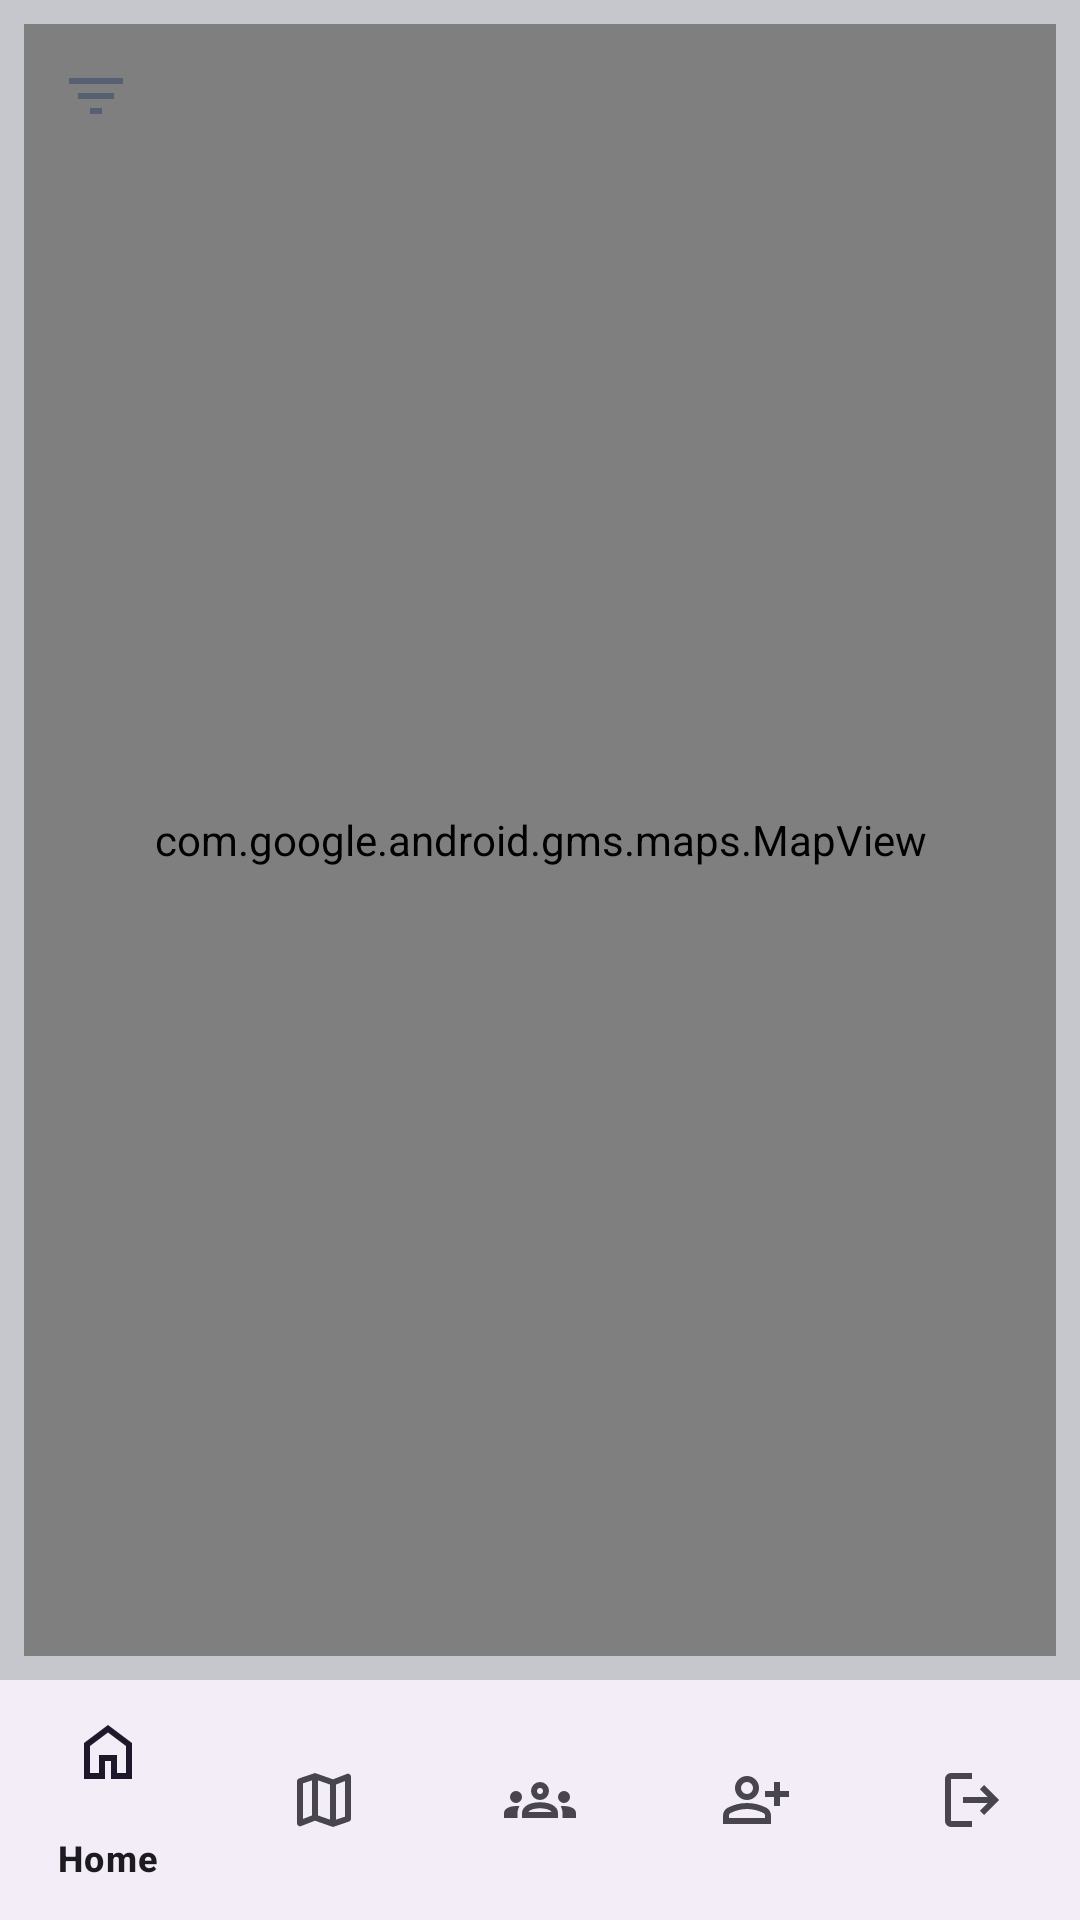

Screen size 1080px×1920px. Icon name, then its center in pixels as point (x, y):
Filter: point (96, 96)
